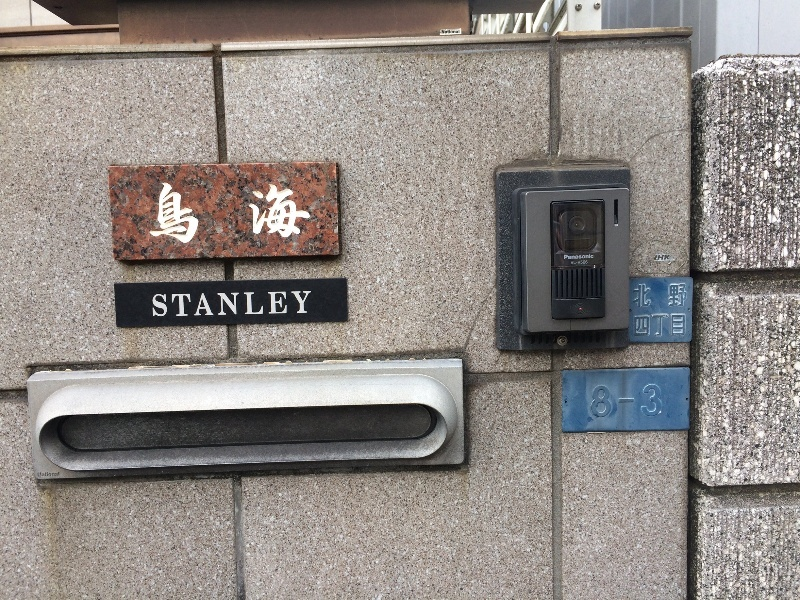text: (161, 183, 176, 246), (177, 183, 192, 246), (193, 183, 208, 246), (209, 183, 224, 246), (225, 183, 240, 246), (241, 183, 256, 246), (257, 183, 272, 246), (273, 183, 288, 246), (289, 183, 304, 246), (593, 385, 608, 419), (609, 385, 624, 419), (625, 385, 640, 419), (641, 385, 656, 419), (152, 183, 160, 246), (161, 291, 176, 319), (177, 291, 192, 319), (193, 291, 208, 319), (209, 291, 224, 319), (225, 291, 240, 319), (241, 291, 256, 319), (257, 291, 272, 319), (273, 291, 288, 319), (289, 291, 304, 319), (641, 314, 656, 337), (657, 314, 672, 337), (641, 284, 656, 306), (657, 284, 672, 306), (305, 183, 310, 246), (673, 284, 687, 306), (673, 314, 686, 337), (151, 291, 160, 319), (657, 385, 663, 419), (305, 291, 311, 319), (634, 314, 640, 337), (634, 284, 640, 306), (577, 254, 592, 260), (657, 255, 670, 261), (564, 254, 576, 260), (449, 30, 460, 34), (577, 261, 588, 265), (591, 385, 592, 419), (442, 30, 448, 34), (571, 261, 576, 265), (593, 254, 594, 260), (655, 255, 656, 261)
